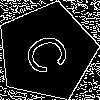C: (21, 26, 80, 79)
